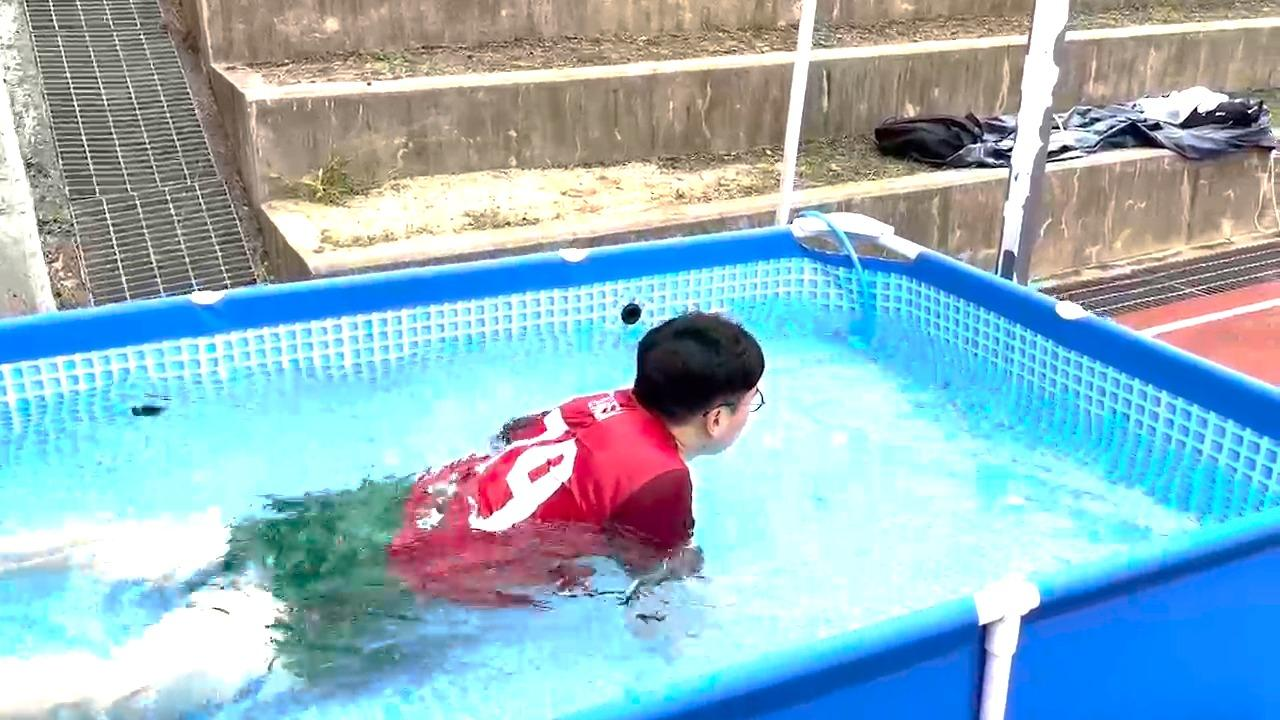Swimming: (40, 292, 769, 702)
